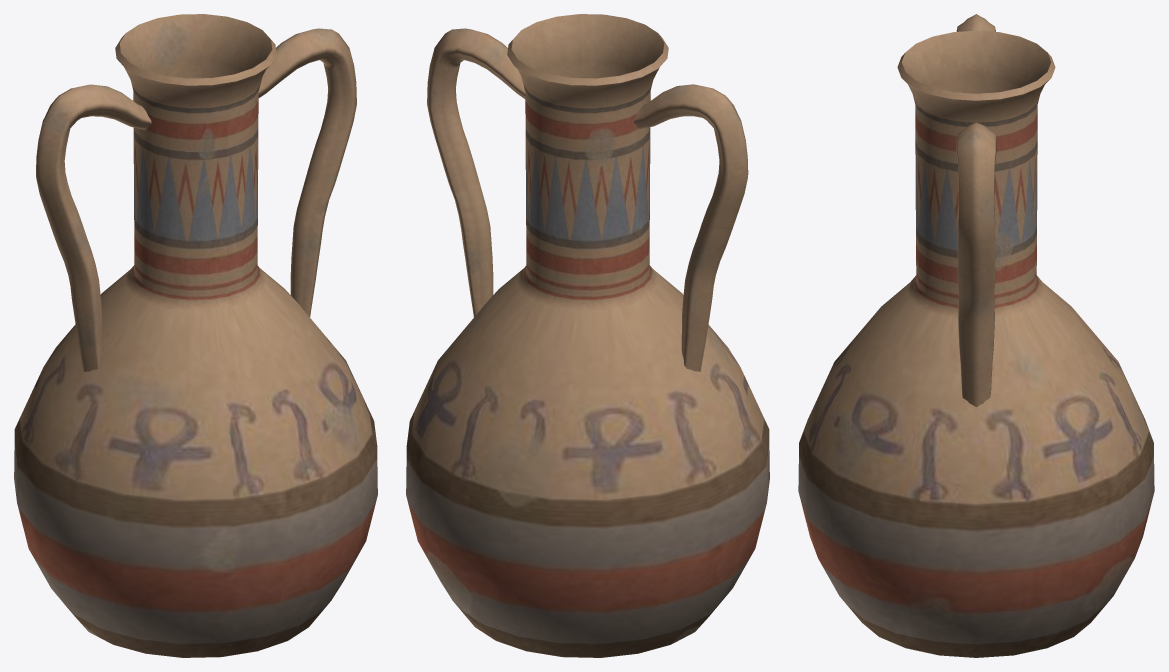
File: pot_1.fbx
The picture shows the model from 3 angles, left to right: view 1: azimuth 30°, elevation 25°; view 2: azimuth 150°, elevation 25°; view 3: azimuth 270°, elevation 25°; orthographic projection. The views are drawn at different scales.
Visible parts, largest first — view 1: pot_1; view 2: pot_1; view 3: pot_1.
Part boxes in pixels (bbox=[...]): pot_1: bbox=[14, 14, 377, 657]; pot_1: bbox=[406, 14, 769, 657]; pot_1: bbox=[798, 14, 1154, 657].
Size of the model in its own units: 71.54 by 119 by 70.7.
1 material, 1 textured.
